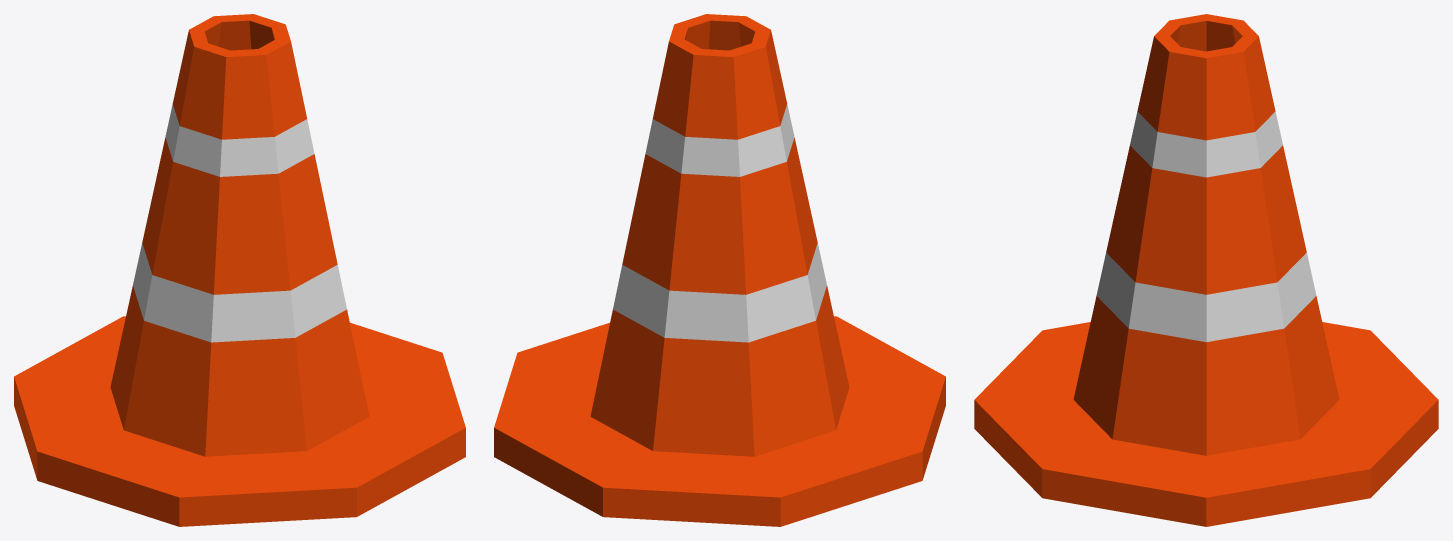
Rendered from traffic-cone.fbx.
The picture shows the model from 3 angles, left to right: view 1: azimuth 30°, elevation 25°; view 2: azimuth 150°, elevation 25°; view 3: azimuth 270°, elevation 25°; orthographic projection.
Visible parts, largest first — view 1: Circle; view 2: Circle; view 3: Circle.
Part boxes in pixels (<box>): Circle: <box>14,14,465,526</box>; Circle: <box>494,14,945,526</box>; Circle: <box>974,14,1438,526</box>.
Size of the model in its own units: 215 by 201 by 215.
